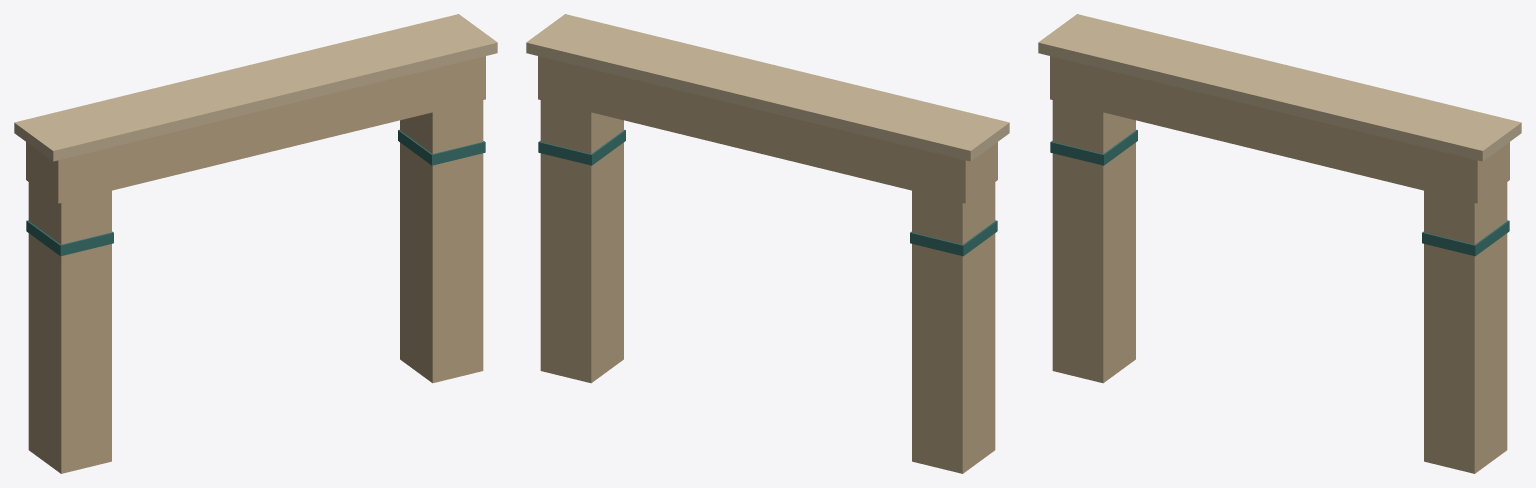
Rendered from courtyard-arch.glb.
The picture shows the model from 3 angles, left to right: view 1: azimuth 30°, elevation 25°; view 2: azimuth 150°, elevation 25°; view 3: azimuth 330°, elevation 25°; orthographic projection.
Visible parts, largest first — view 1: courtyard-arch-surface; view 2: courtyard-arch-surface; view 3: courtyard-arch-surface.
Part boxes in pixels (bbox=[...]): courtyard-arch-surface: bbox=[14, 14, 497, 473]; courtyard-arch-surface: bbox=[526, 14, 1009, 473]; courtyard-arch-surface: bbox=[1038, 14, 1521, 473].
Bounding box in the file's own units: 7.9 × 5.57 × 1.2.
